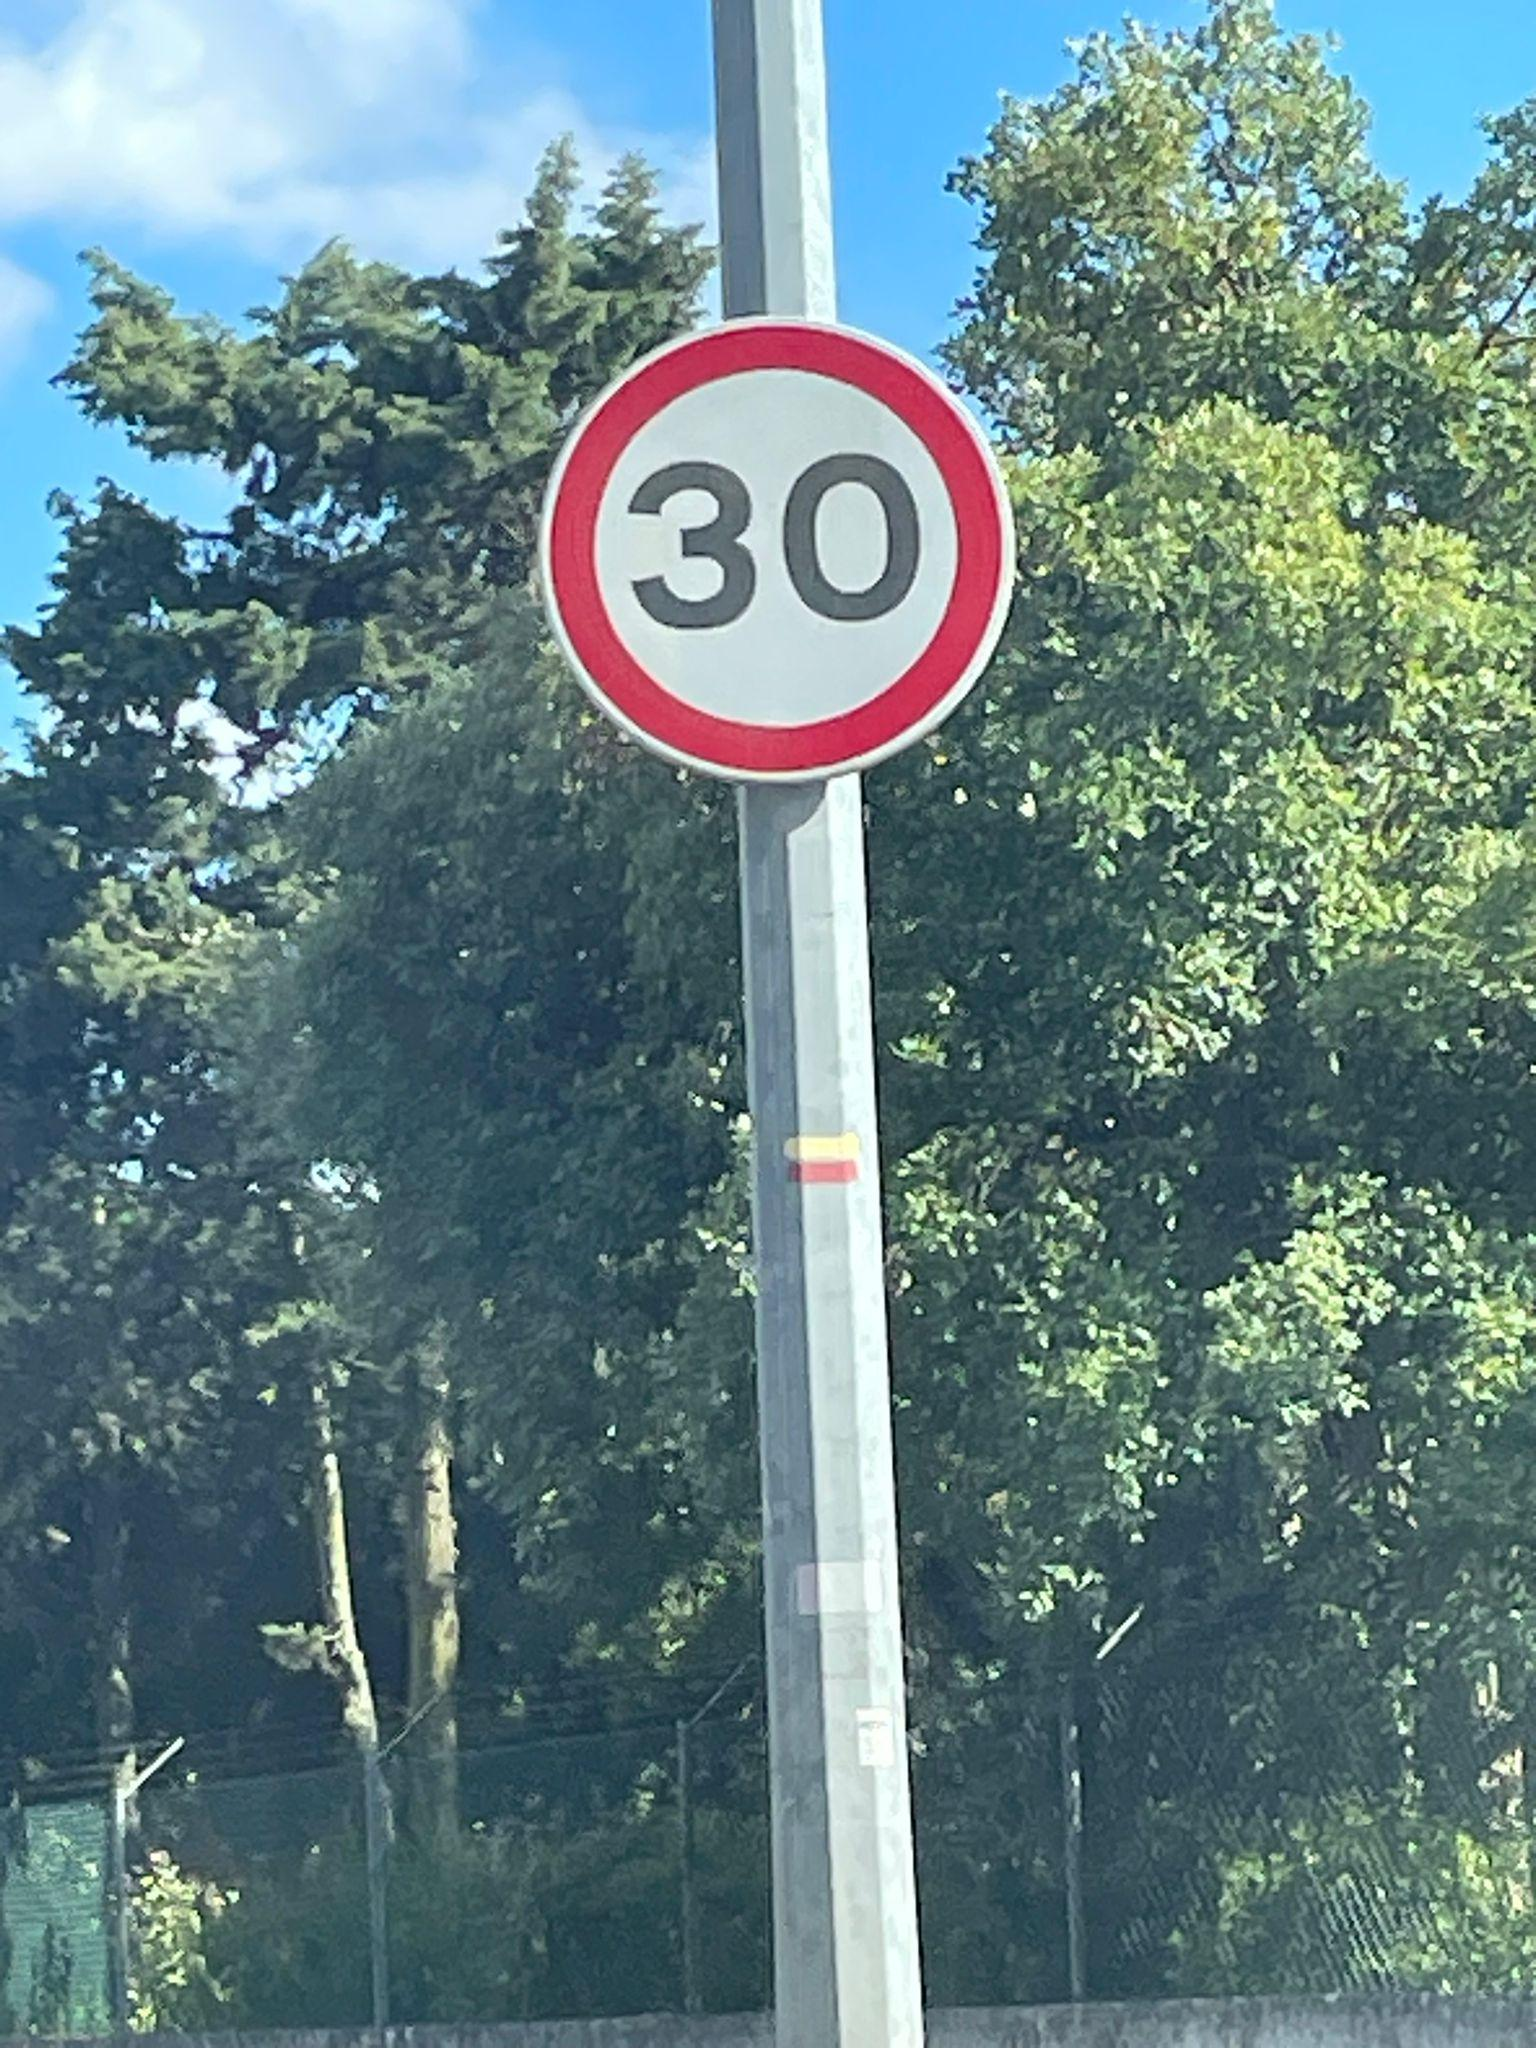proibicao de exceder a velocidade maxima de 30 km-h: (536, 310, 1034, 805)
